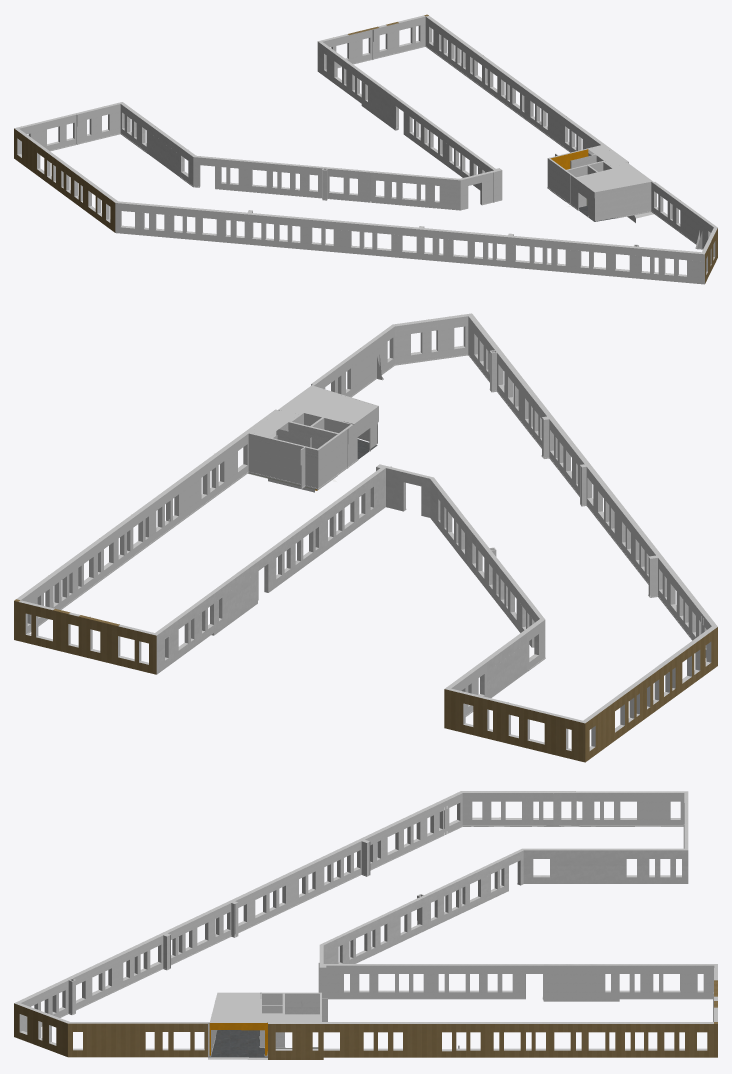
Rendered from imp_0_floor_aisle_a_sized.glb.
3 renders of one model, top to bottom at view 1: azimuth 30°, elevation 25°; view 2: azimuth 150°, elevation 25°; view 3: azimuth 270°, elevation 25°, orthographic. The views are drawn at different scales.
Visible parts, largest first — view 1: murs, plafond; view 2: murs, plafond; view 3: murs, plafond, sol.
Boxes of the visible parts, x1=… form: murs: x1=14, y1=14, x2=717, y2=284; plafond: x1=570, y1=146, x2=651, y2=197; murs: x1=14, y1=313, x2=717, y2=762; plafond: x1=248, y1=386, x2=376, y2=458; murs: x1=14, y1=791, x2=717, y2=1057; plafond: x1=211, y1=992, x2=319, y2=1030; sol: x1=208, y1=1030, x2=323, y2=1059.
Bounding box in the file's own units: 50.42 × 4.19 × 64.42.
Materials: 15 (12 with a texture image).
